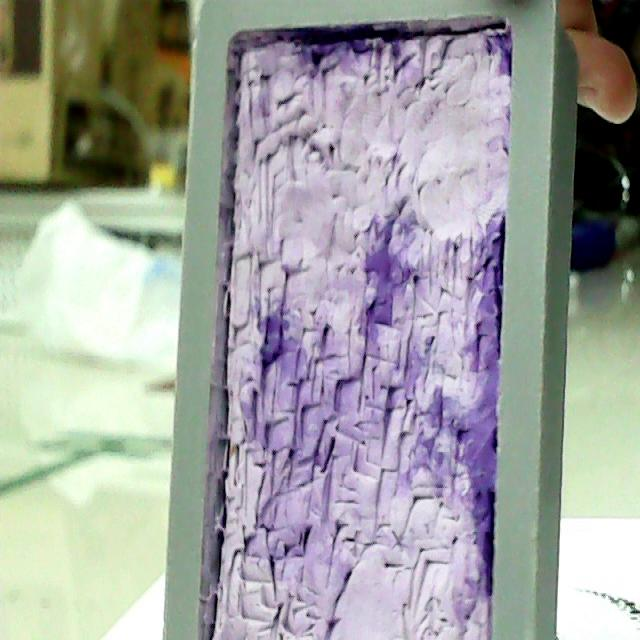block: (159, 1, 582, 636)
